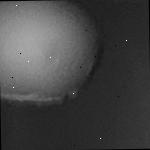colony: (0, 0, 110, 112), (43, 0, 149, 8)
